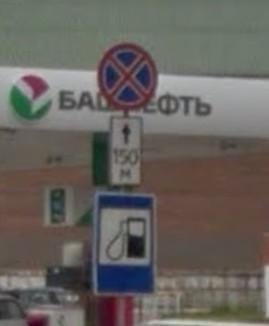No Parking: (98, 43, 159, 111)
